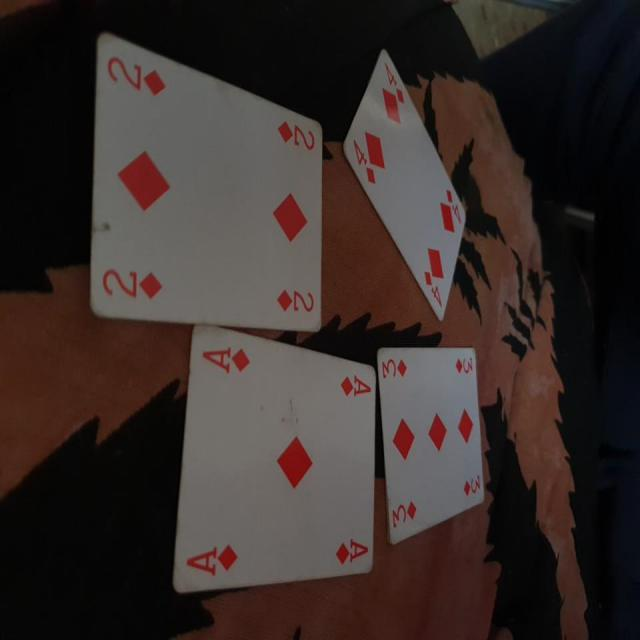2 Diamonds: (88, 27, 324, 324)
3 Diamonds: (376, 338, 488, 549)
4 Diamonds: (345, 45, 465, 318)
A Diamonds: (158, 314, 378, 588)
